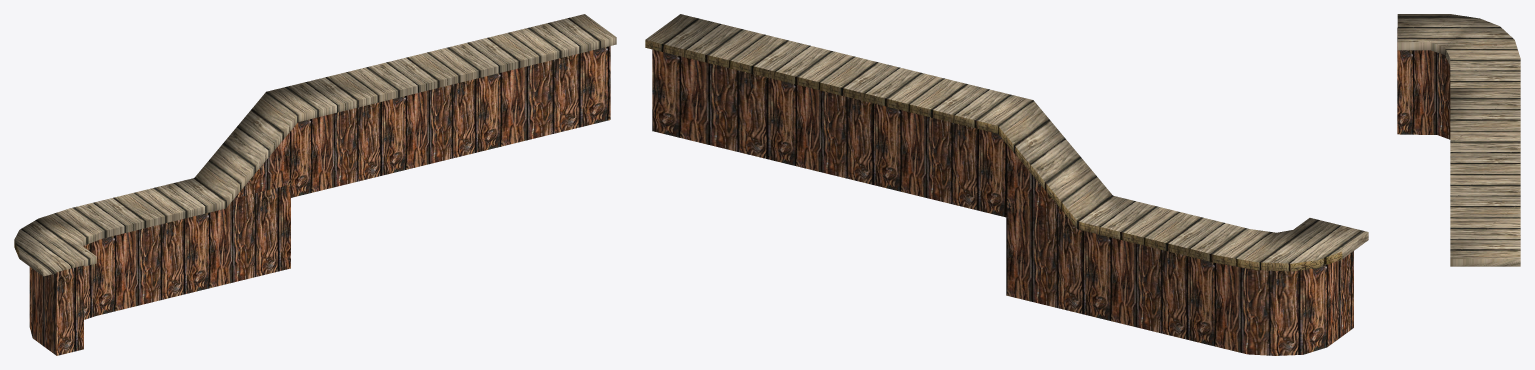
Rendered from LAKETOWN_PUB_PS_PUB_BAR764__GX.fbx.
3 renders of one model, left to right at view 1: azimuth 30°, elevation 25°; view 2: azimuth 150°, elevation 25°; view 3: azimuth 270°, elevation 25°, orthographic. The views are drawn at different scales.
Parts seen in each view (by area): view 1: LAKETOWN_PUB_PS_PUB_BAR764__GX; view 2: LAKETOWN_PUB_PS_PUB_BAR764__GX; view 3: LAKETOWN_PUB_PS_PUB_BAR764__GX.
Part boxes in pixels (x1,y1,x2,y2): LAKETOWN_PUB_PS_PUB_BAR764__GX: (14,14,616,355); LAKETOWN_PUB_PS_PUB_BAR764__GX: (645,14,1368,355); LAKETOWN_PUB_PS_PUB_BAR764__GX: (1397,14,1520,266).
Size of the model in its own units: 71769 by 18164 by 11634.
Materials: 3 (3 with a texture image).
